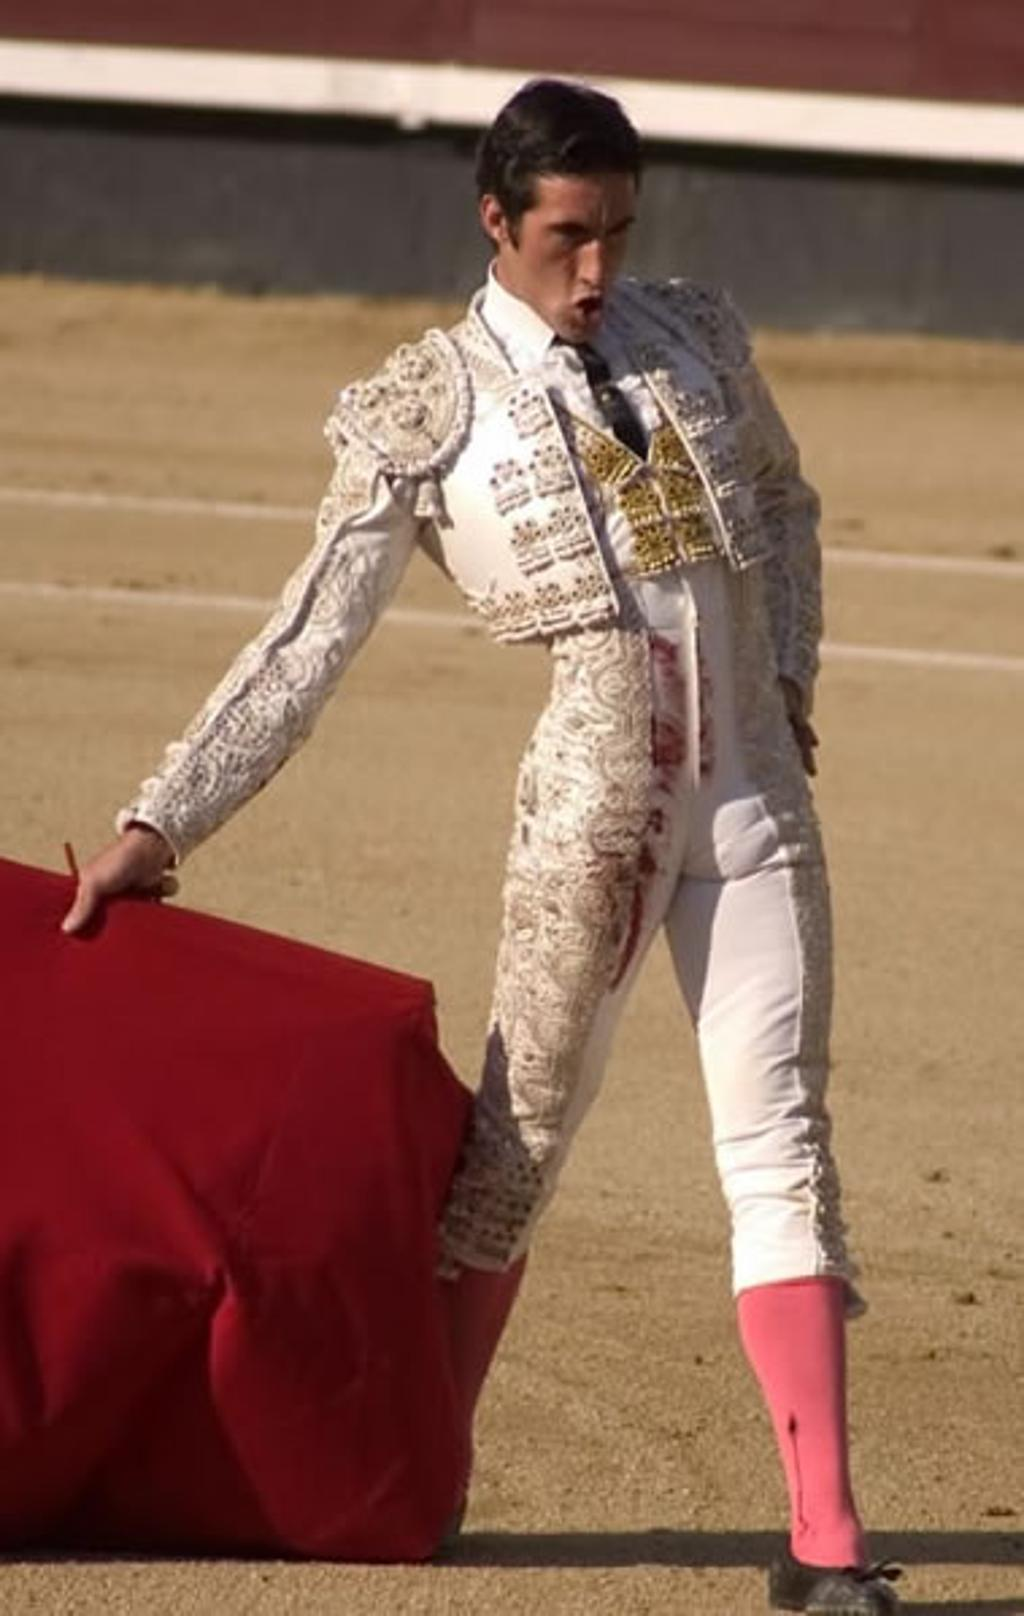face: (507, 131, 633, 349)
